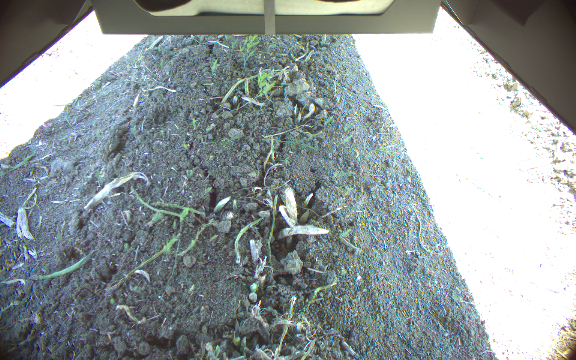aspa: (240, 77, 251, 98)
